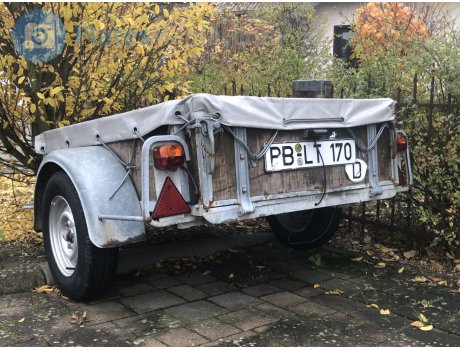License Plates: (266, 146, 355, 166)
